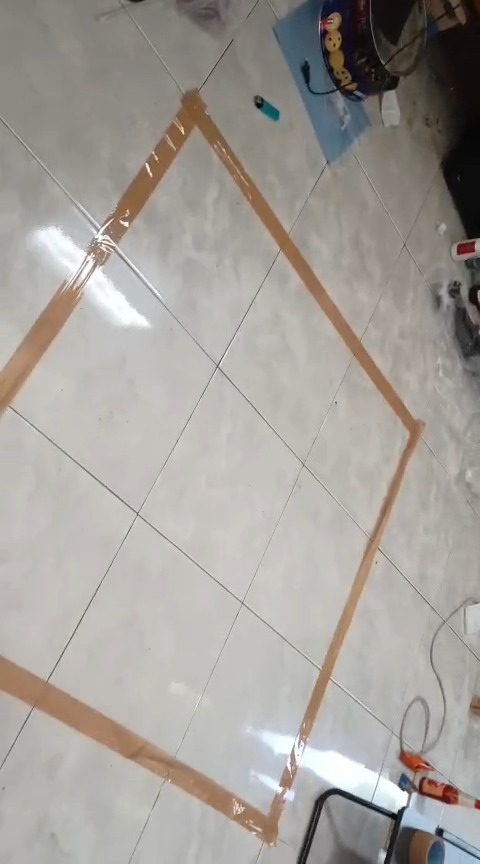floor marking: (0, 90, 423, 843)
